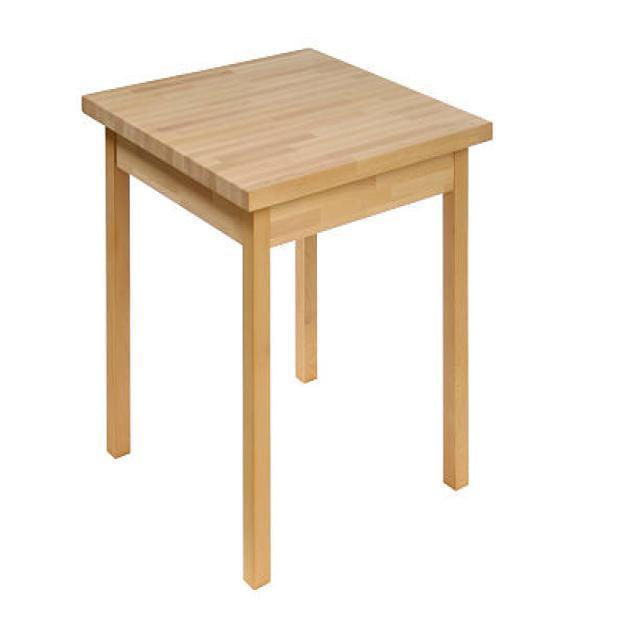table: (80, 46, 492, 588)
